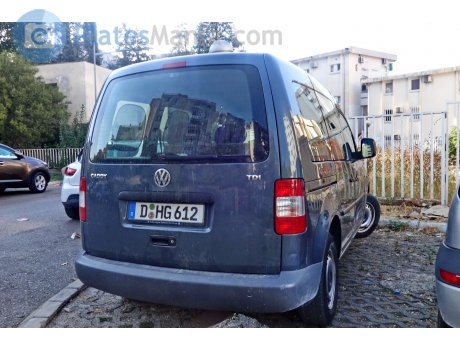License Plates: (140, 202, 198, 219)
